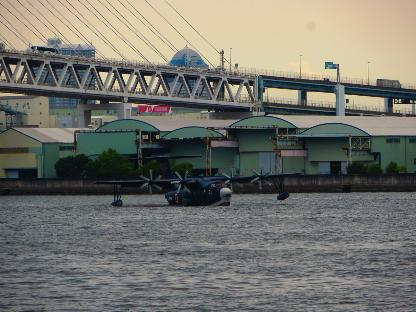Tu95: (92, 154, 300, 206)
